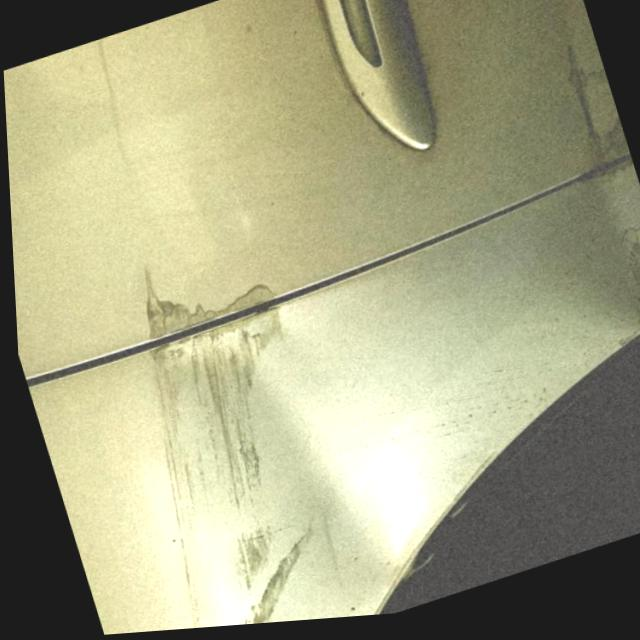Scratch: (141, 278, 315, 628), (558, 35, 636, 188), (621, 237, 640, 319)
